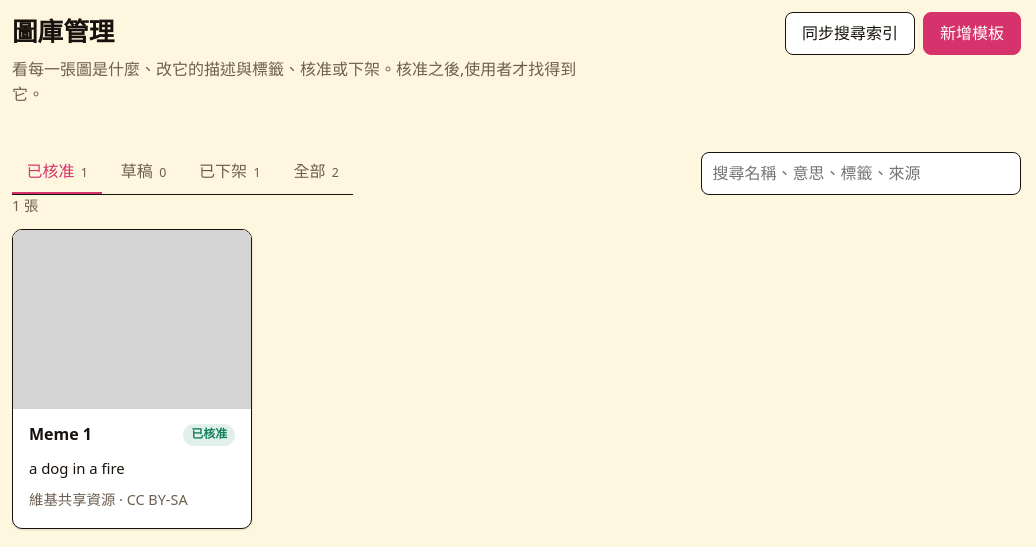
Test case: TemplatesPage › shows where a template came from, and its meaning, and links it to its editor
expect the text "a dog in a fire" is shown: met, box [29,458,125,478]
Click the tab "已下架1": {"x": 230, "y": 172} [185,151,275,194]
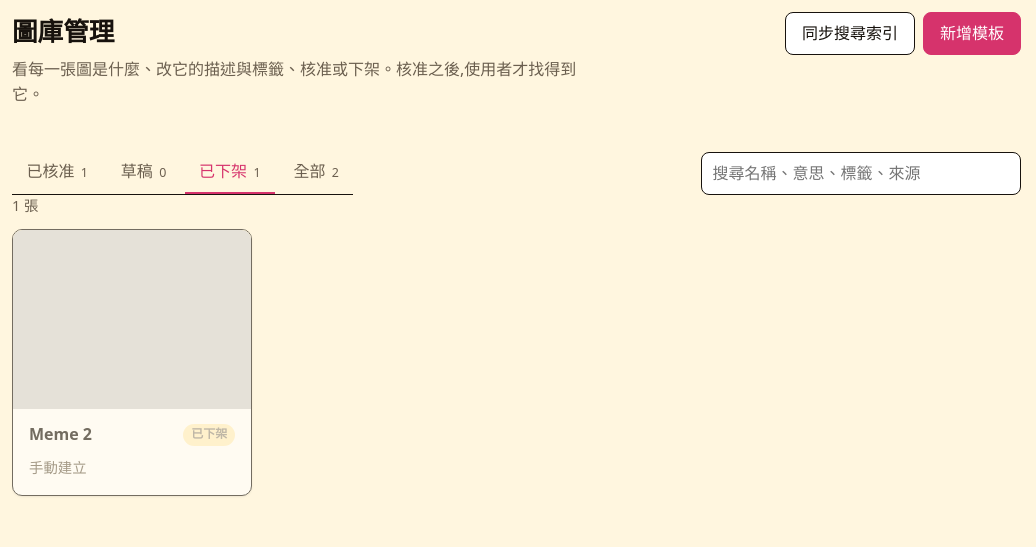
expect the text "手動建立" is shown: met, box [29,458,87,477]
